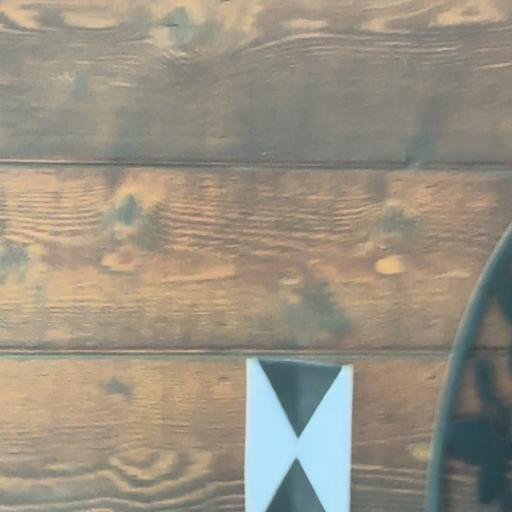target: (245, 358, 354, 510)
